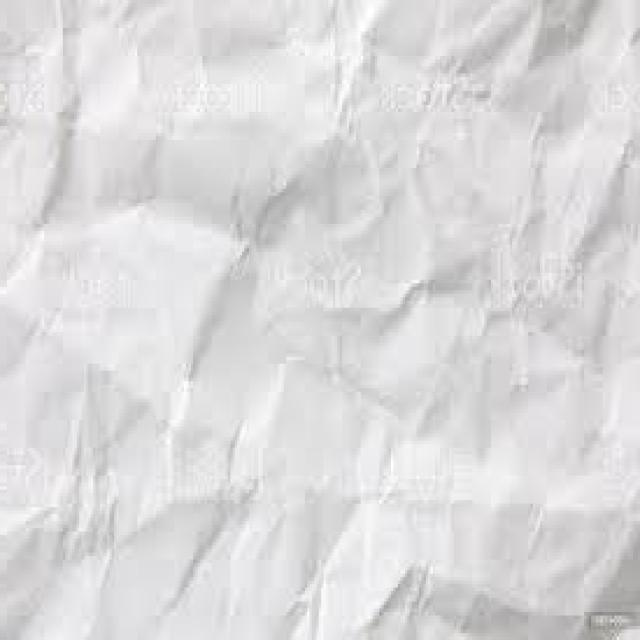paper: (2, 0, 640, 637)
